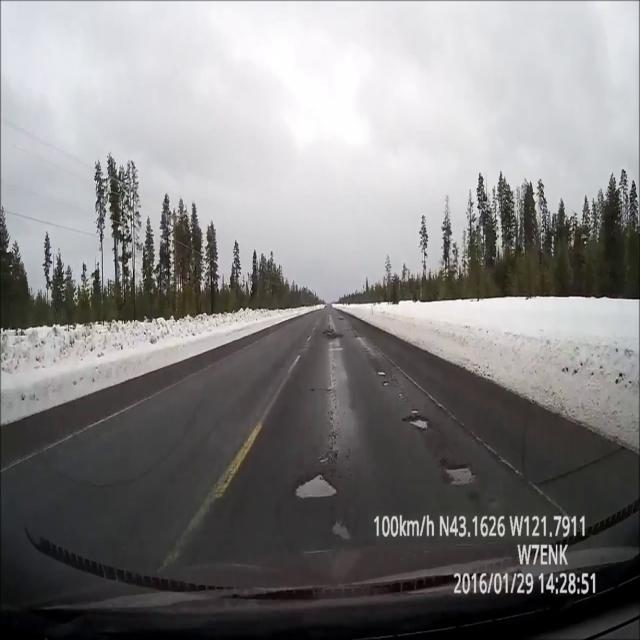Pothole: (296, 474, 341, 502), (441, 457, 477, 490), (406, 412, 431, 429), (323, 329, 342, 340), (376, 370, 386, 376), (354, 334, 365, 339), (339, 316, 344, 322)
